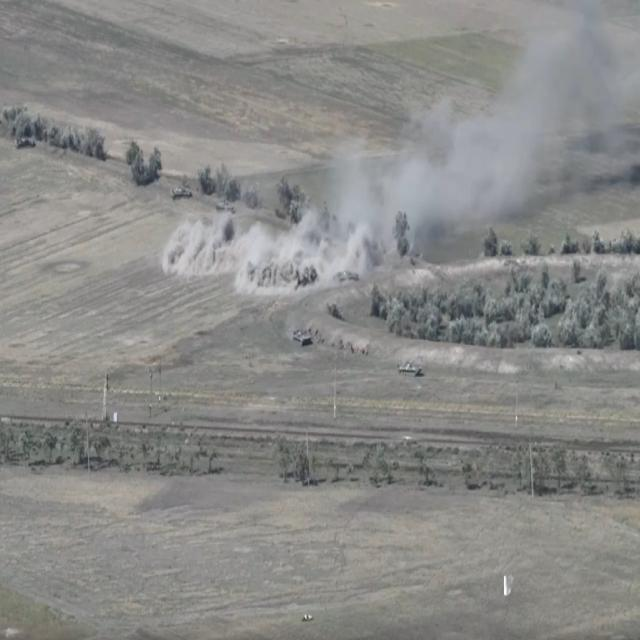AIFV: (14, 133, 41, 155), (398, 358, 425, 379), (291, 327, 314, 349), (334, 267, 361, 285), (216, 199, 238, 220), (171, 185, 194, 205)
